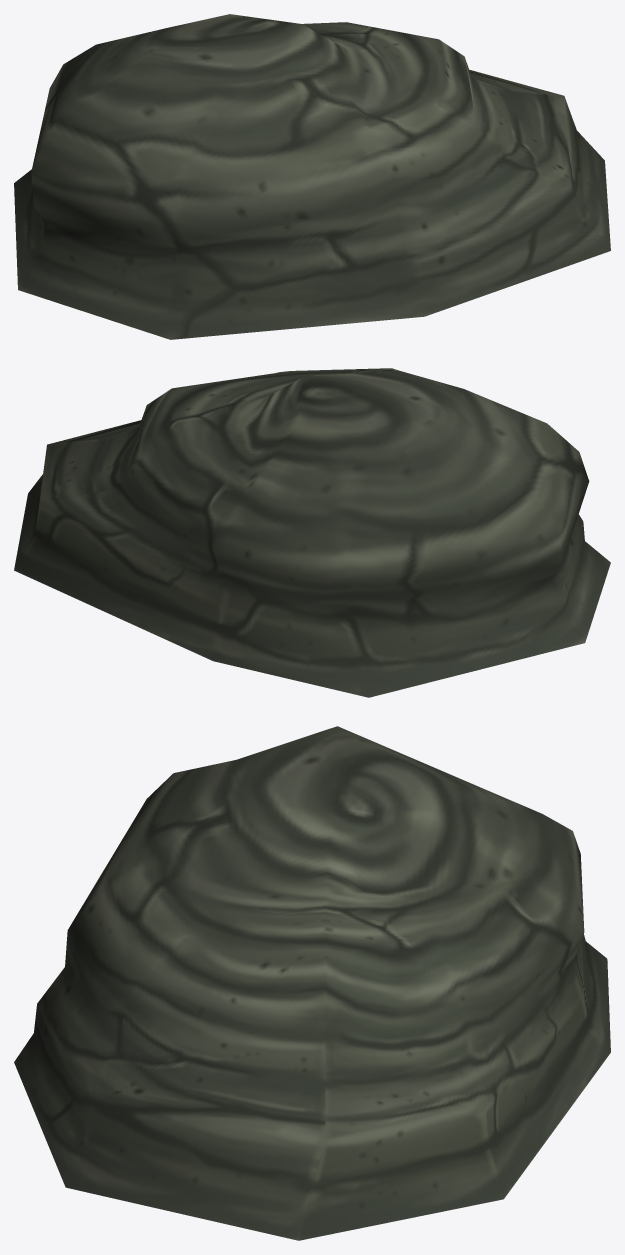
File: Rock.FBX
3 views of the same model, one above another, from view 1: azimuth 30°, elevation 25°; view 2: azimuth 150°, elevation 25°; view 3: azimuth 270°, elevation 25° (orthographic). The views are drawn at different scales.
Visible parts, largest first — view 1: Rock; view 2: Rock; view 3: Rock.
Part boxes in pixels (x1,y1,x2,y2): Rock: (14,14,610,339); Rock: (14,368,610,697); Rock: (14,726,610,1240).
Bounding box in the file's own units: 2.56 × 0.8438 × 1.86.
